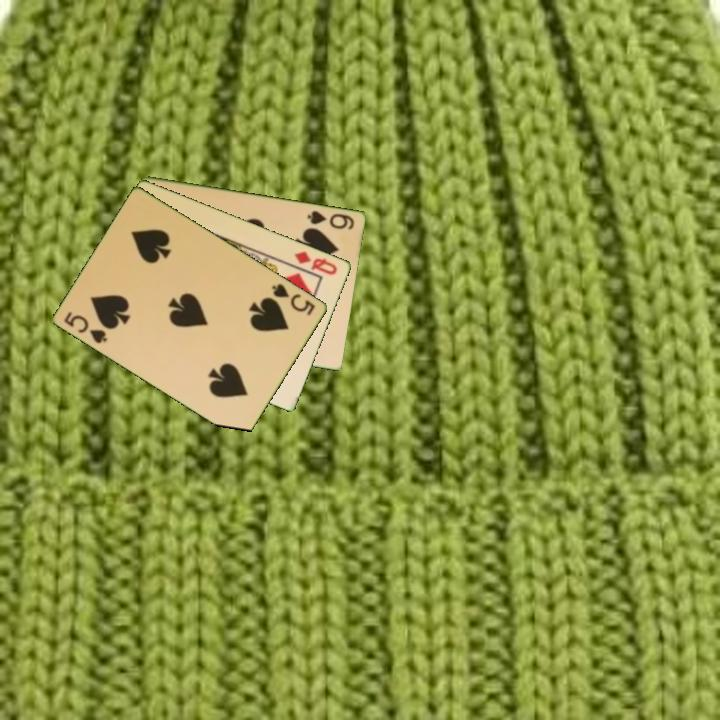5s: (61, 308, 111, 346), (269, 280, 318, 318)
6s: (304, 207, 357, 232)
Qd: (291, 247, 340, 278)
